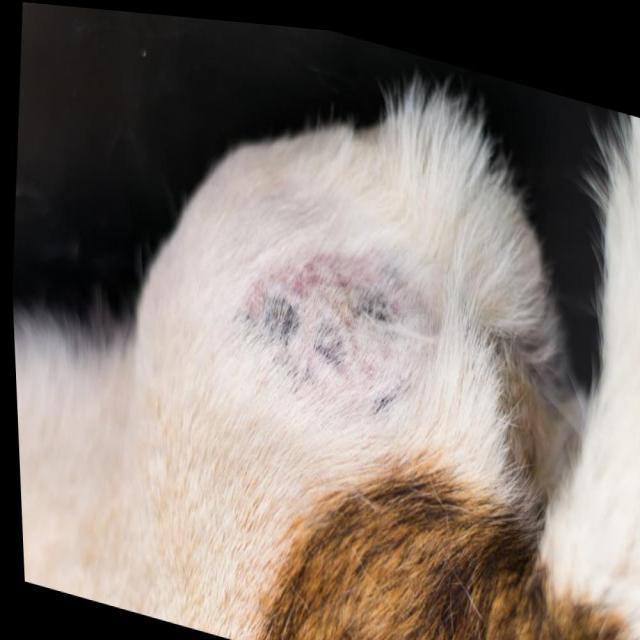di ung bo chet: (214, 234, 497, 513)
